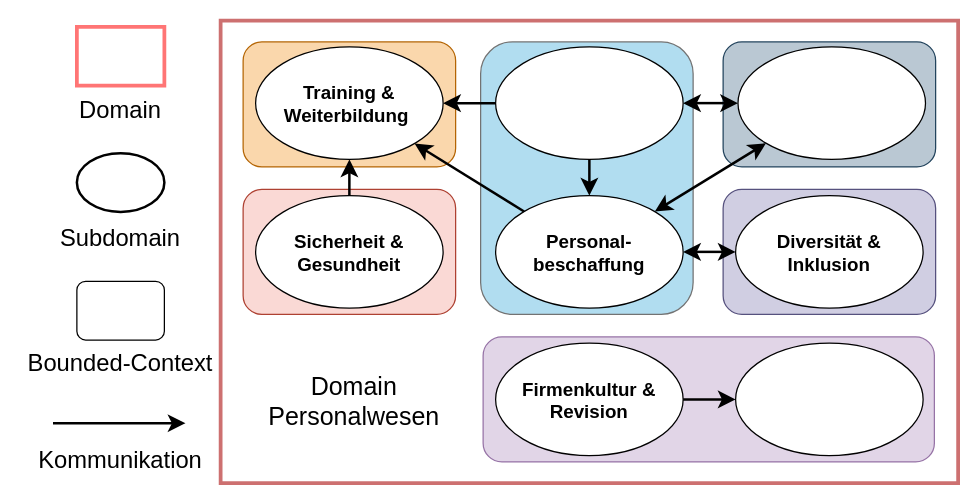
Image size: 979x504. Some labels were removed from this diagram. Each missing label, with the box of its shape:
Finanzen & Vergütung: (737, 46, 926, 159)
Stellenbesetzung: (494, 46, 683, 159)
Unternehmens- kommunikation: (734, 342, 923, 456)
